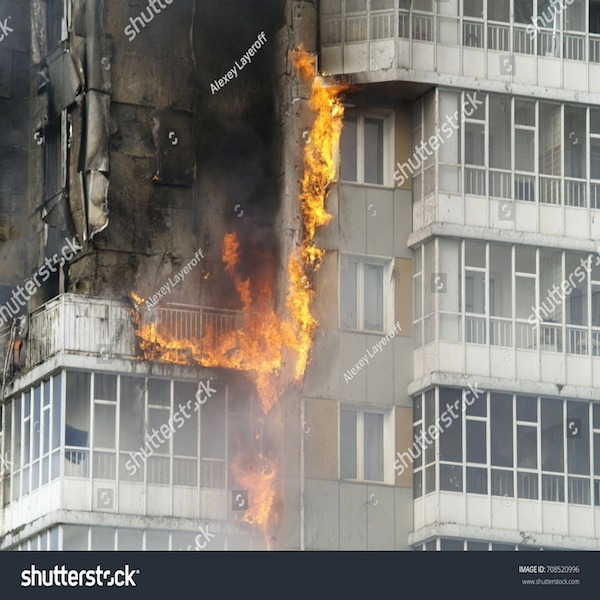fire: (278, 46, 342, 371), (155, 309, 315, 375), (217, 214, 278, 371), (231, 447, 287, 533)
